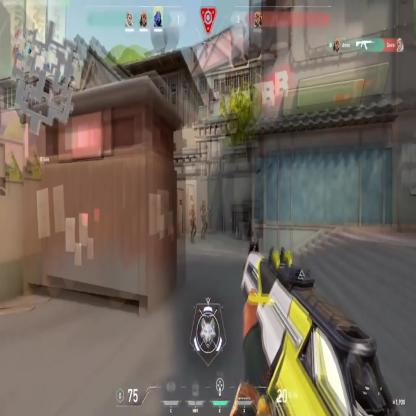enemy: (188, 203, 198, 245)
enemy_head: (192, 204, 194, 210)
